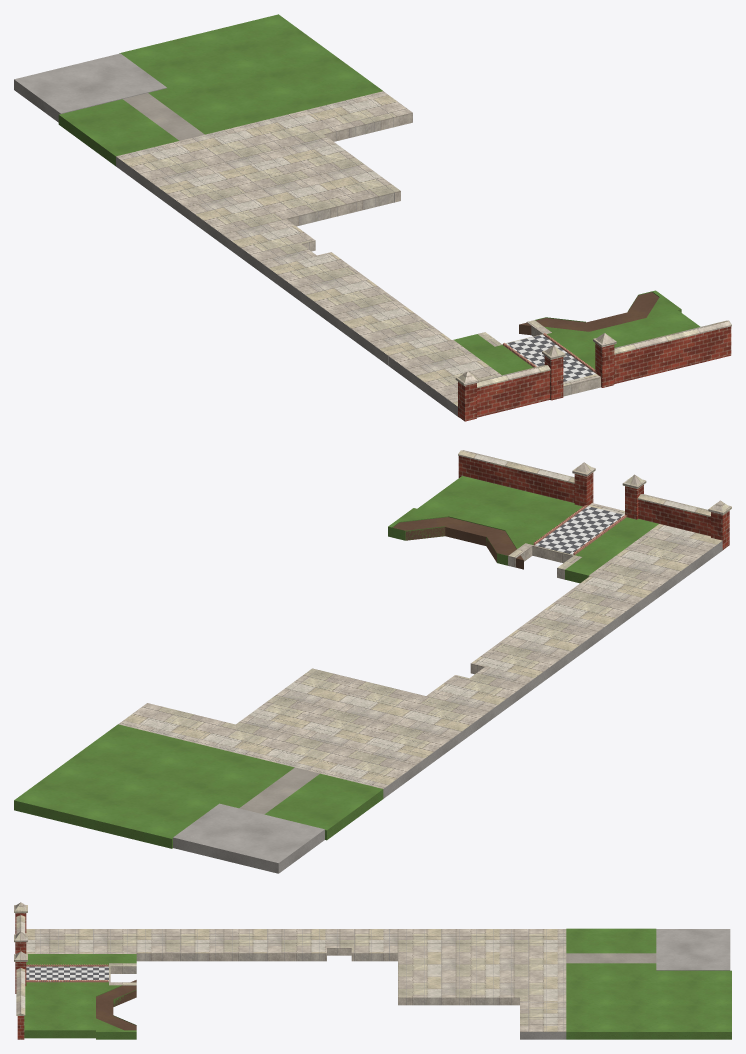
File: site_l.glb
3 renders of one model, top to bottom at view 1: azimuth 30°, elevation 25°; view 2: azimuth 150°, elevation 25°; view 3: azimuth 270°, elevation 25°, orthographic. The views are drawn at different scales.
Parts seen in each view (by area): view 1: site_l_stone_c, site_l_lawn, site_l_conc_s, site_l_brick, site_l_mulch, site_l_gravel, site_l_tile_b, site_l_tile_w2; view 2: site_l_stone_c, site_l_lawn, site_l_conc_s, site_l_brick, site_l_mulch, site_l_gravel, site_l_tile_w2, site_l_tile_b; view 3: site_l_stone_c, site_l_lawn, site_l_conc_s, site_l_mulch, site_l_gravel, site_l_tile_b, site_l_tile_w2, site_l_brick, site_l_tile_r.
Part boxes in pixels (left/top/right/bottom): site_l_stone_c: left=116, top=91, right=731, bottom=406; site_l_lawn: left=58, top=14, right=700, bottom=375; site_l_conc_s: left=14, top=53, right=492, bottom=417; site_l_brick: left=458, top=326, right=731, bottom=421; site_l_mulch: left=519, top=292, right=659, bottom=335; site_l_gravel: left=123, top=93, right=204, bottom=140; site_l_tile_b: left=508, top=335, right=592, bottom=381; site_l_tile_w2: left=506, top=334, right=595, bottom=380; site_l_stone_c: left=118, top=450, right=731, bottom=788; site_l_lawn: left=14, top=476, right=658, bottom=848; site_l_conc_s: left=124, top=526, right=722, bottom=873; site_l_brick: left=458, top=456, right=729, bottom=549; site_l_mulch: left=393, top=517, right=523, bottom=569; site_l_gravel: left=239, top=767, right=319, bottom=814; site_l_tile_w2: left=535, top=506, right=624, bottom=554; site_l_tile_b: left=538, top=507, right=622, bottom=553; site_l_stone_c: left=14, top=902, right=566, bottom=1031; site_l_lawn: left=24, top=928, right=731, bottom=1039; site_l_conc_s: left=40, top=929, right=730, bottom=1039; site_l_mulch: left=96, top=980, right=136, bottom=1030; site_l_gravel: left=566, top=953, right=656, bottom=963; site_l_tile_b: left=26, top=966, right=108, bottom=981; site_l_tile_w2: left=26, top=966, right=108, bottom=981; site_l_brick: left=15, top=913, right=26, bottom=1039; site_l_tile_r: left=26, top=964, right=108, bottom=982.
Size of the model in its own units: 8.45 by 1.55 by 24.73.
Materials: 10 (6 with a texture image).
